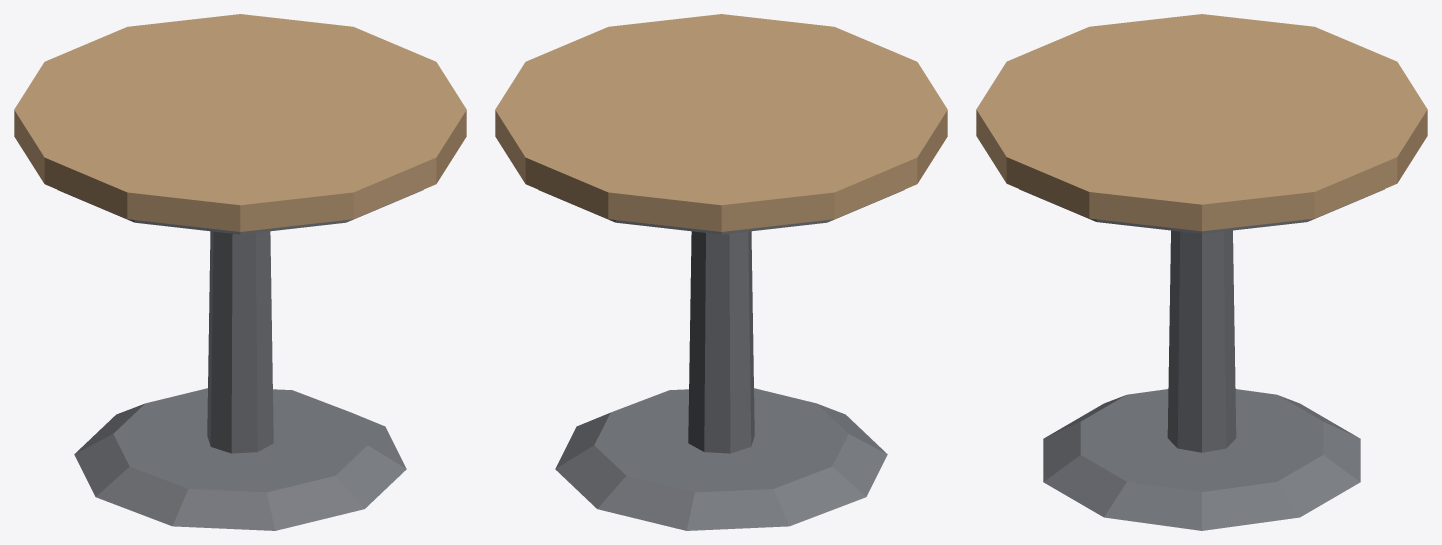
File: tennis-club-and-courts-terrace-table-6f2b66f9__33640.glb
3 views of the same model, side by side, from view 1: azimuth 30°, elevation 25°; view 2: azimuth 150°, elevation 25°; view 3: azimuth 270°, elevation 25° (orthographic).
Parts seen in each view (by area): view 1: terrace-table; view 2: terrace-table; view 3: terrace-table.
Part boxes in pixels (left/top/right/bottom): terrace-table: left=14, top=14, right=466, bottom=530; terrace-table: left=495, top=14, right=947, bottom=530; terrace-table: left=976, top=14, right=1427, bottom=530.
Size of the model in its own units: 0.92 by 0.79 by 0.92.
